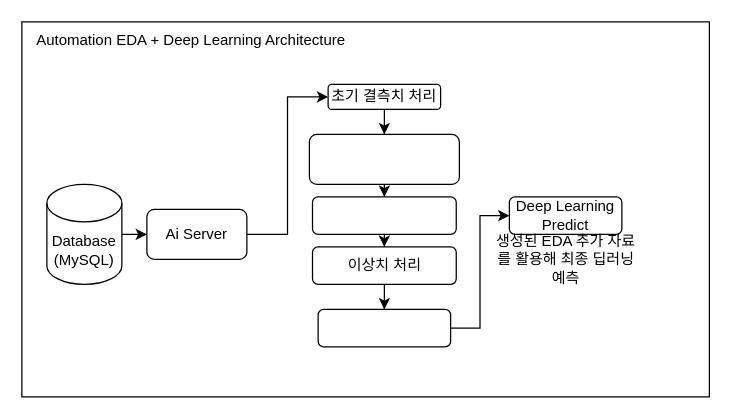
Image size: 731x419. Some labels were removed from this diagram. The box of each missing label's shape, as (x1, y1, x2, y2) in pixels:
Data Scaling: (311, 196, 456, 234)
Generation EDA: (317, 308, 451, 347)
사전 학습 Deep Learning 기반 결측치 재 처리: (308, 133, 459, 184)
